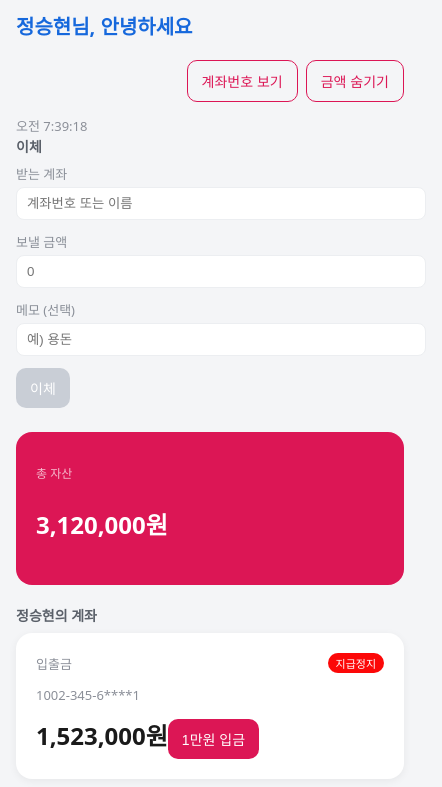
App 안전망 테스트 › 금액 토글 버튼을 누르면 총 자산까지 함께 가려진다
The width and height of the screenshot is (442, 787).
Expected: the text "3,120,000원" is shown, [36, 508, 168, 541]
Click the button "금액 숨기기".
click(355, 81)  # box [306, 60, 404, 102]
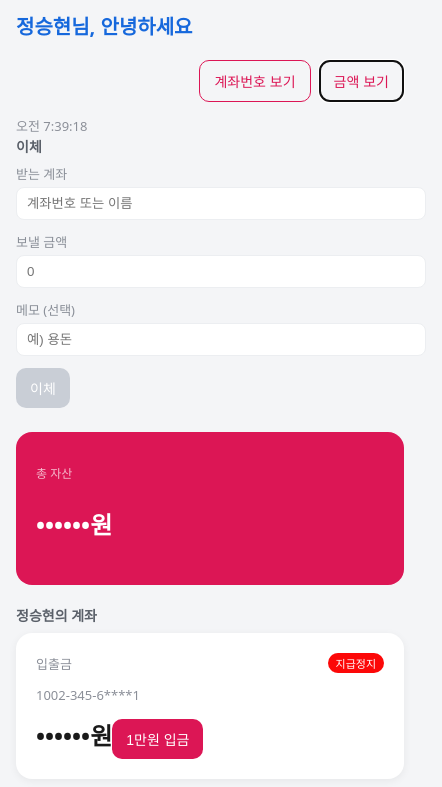
Result: the text "3,120,000원" is gone
Result: the text "••••••원" below "총 자산" is shown at [36, 508, 112, 541]
